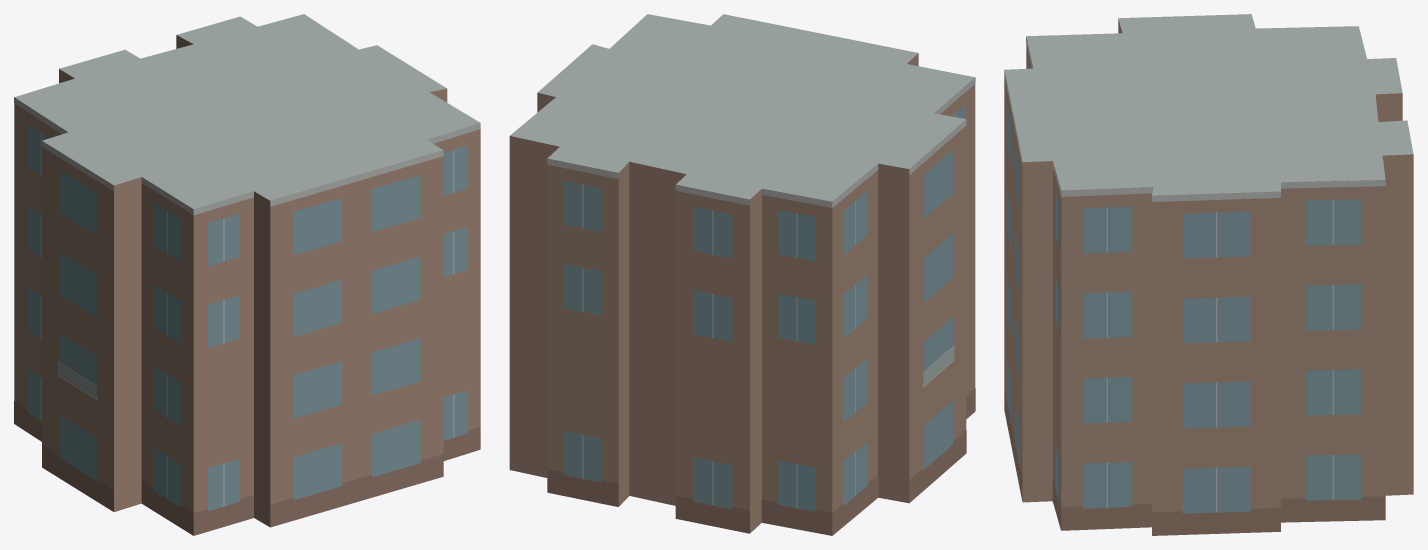
The model's file is survey-upis-33002098.glb.
The picture shows the model from 3 angles, left to right: view 1: azimuth 30°, elevation 25°; view 2: azimuth 150°, elevation 25°; view 3: azimuth 270°, elevation 25°; orthographic projection. The views are drawn at different scales.
Parts seen in each view (by area): view 1: survey-upis-33002098.tmp; view 2: survey-upis-33002098.tmp; view 3: survey-upis-33002098.tmp.
Boxes of the visible parts, bbox=[...] form: survey-upis-33002098.tmp: bbox=[14, 14, 480, 535]; survey-upis-33002098.tmp: bbox=[509, 14, 975, 535]; survey-upis-33002098.tmp: bbox=[1004, 14, 1413, 535].
Size of the model in its own units: 15.01 by 13.1 by 14.29.
